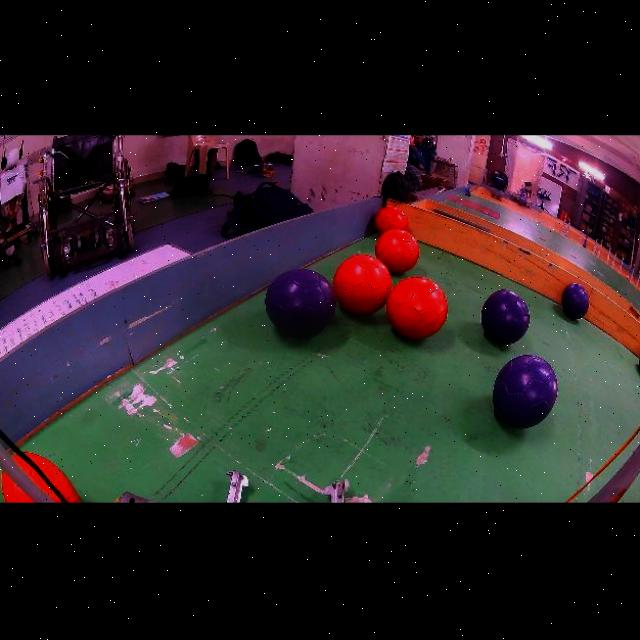P: (266, 269, 336, 338), (493, 355, 557, 429), (482, 290, 529, 345), (561, 283, 589, 319)
R: (386, 277, 447, 340), (332, 254, 392, 315), (376, 230, 419, 273), (376, 207, 408, 234)
